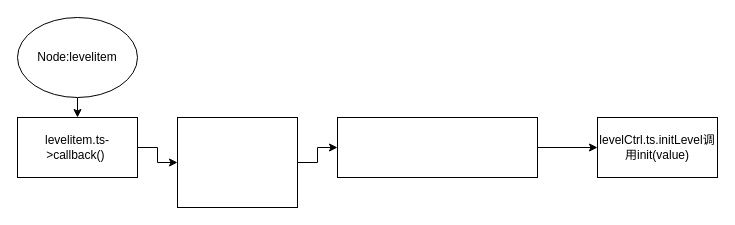
Image size: 735x225. Some labels were removed from this diagram. Each missing label, with the box of its shape:
_value=levelitem.ts.init(value): (336, 116, 538, 178)
levelitem. openmain(_value): (176, 116, 298, 208)
